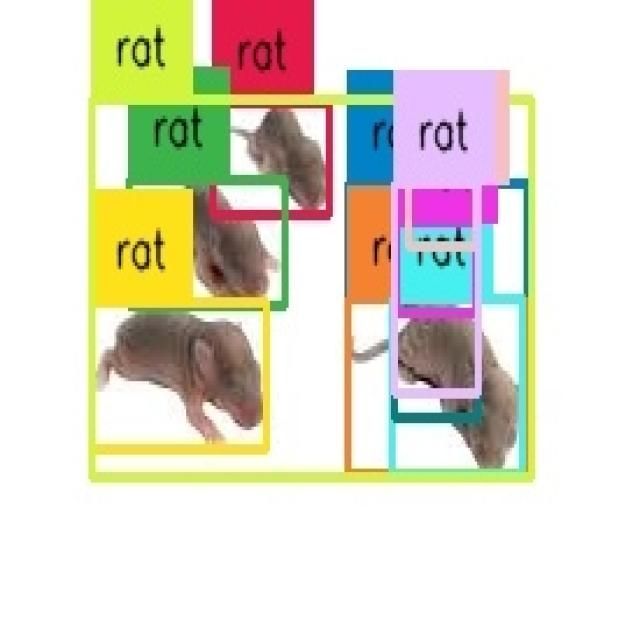rat: (93, 100, 531, 477), (348, 182, 527, 476), (348, 297, 525, 476), (92, 301, 266, 451), (392, 299, 523, 474), (129, 178, 285, 304), (394, 184, 478, 418), (396, 184, 477, 394), (213, 102, 329, 214), (398, 182, 477, 311), (397, 224, 476, 311), (410, 184, 477, 246)
